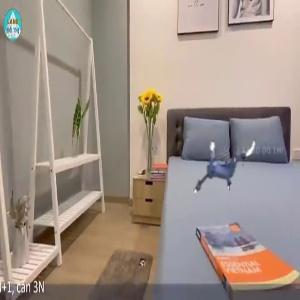drone: (190, 127, 262, 199)
